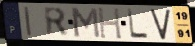H: (97, 6, 124, 41)
I: (23, 5, 33, 38)
L: (126, 8, 150, 40)
M: (69, 6, 102, 39)
R: (42, 6, 71, 38)
V: (149, 8, 172, 41)
